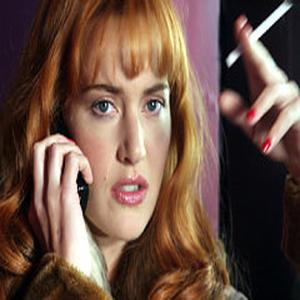cigarette: (228, 1, 293, 67)
